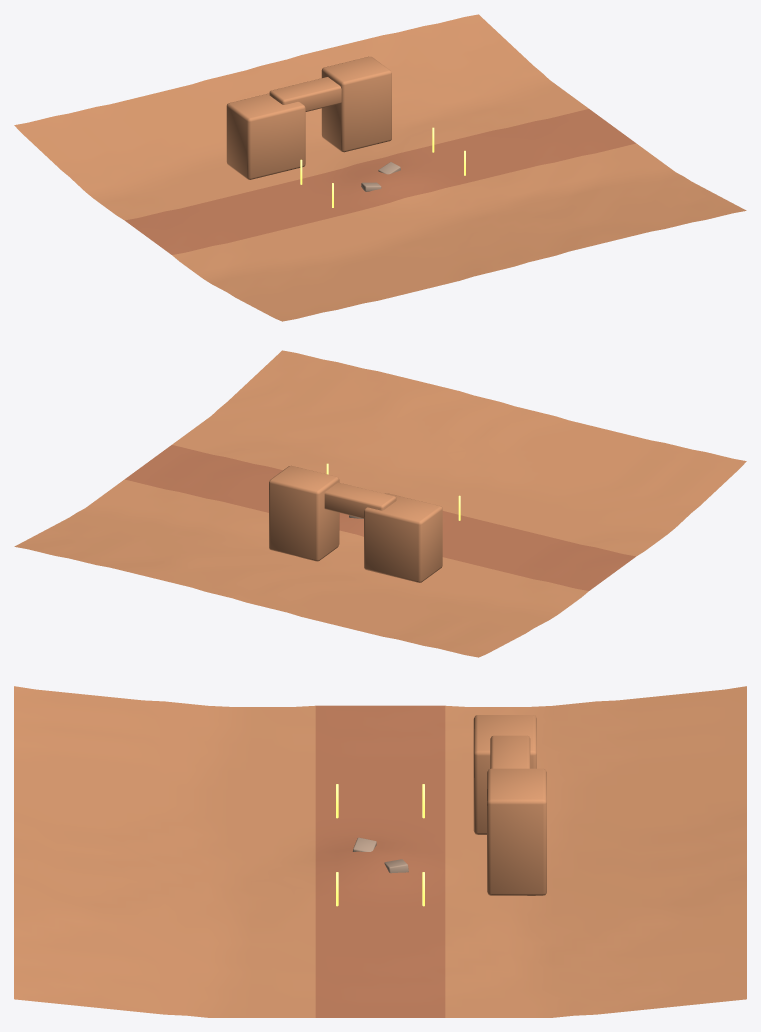
The model's file is chapter_03_redrock.glb.
3 views of the same model, one above another, from view 1: azimuth 30°, elevation 25°; view 2: azimuth 150°, elevation 25°; view 3: azimuth 270°, elevation 25° (orthographic). The views are drawn at different scales.
Visible parts, largest first — view 1: Chapter_Environment; view 2: Chapter_Environment; view 3: Chapter_Environment.
Part boxes in pixels (left/top/right/bottom): Chapter_Environment: left=14, top=14, right=746, bottom=321; Chapter_Environment: left=14, top=350, right=746, bottom=657; Chapter_Environment: left=14, top=686, right=746, bottom=1017.
Size of the model in its own units: 44 by 6.48 by 44.
